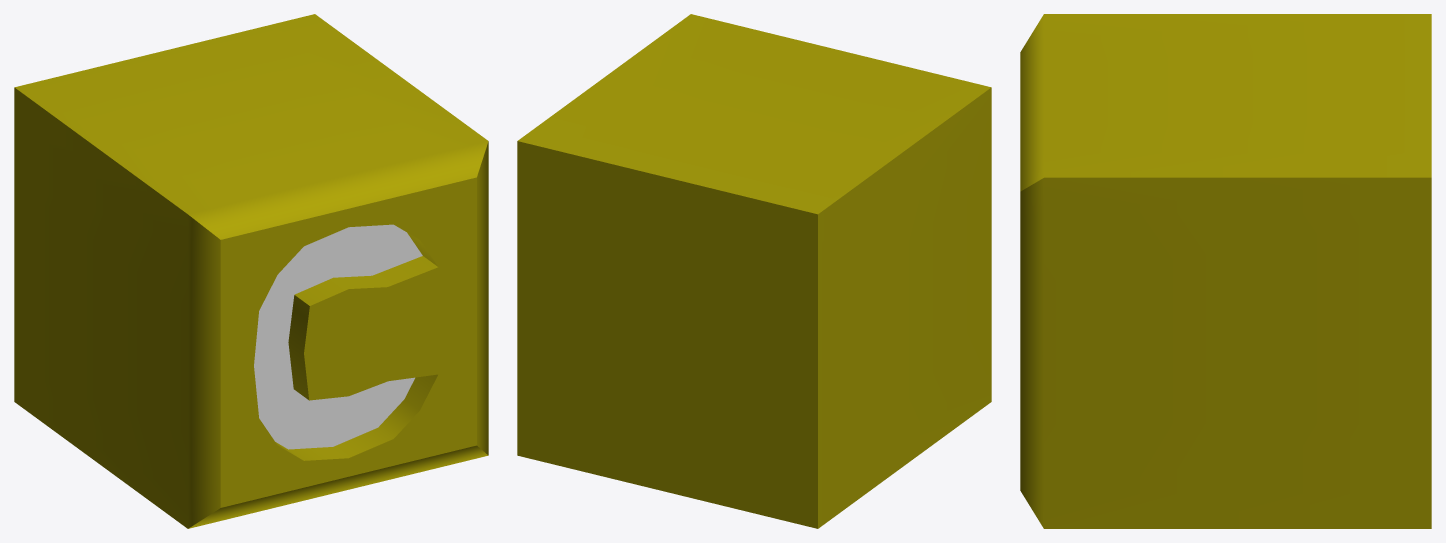
Rendered from C_block.fbx.
3 renders of one model, left to right at view 1: azimuth 30°, elevation 25°; view 2: azimuth 150°, elevation 25°; view 3: azimuth 270°, elevation 25°, orthographic. The views are drawn at different scales.
Visible parts, largest first — view 1: pasted__pCube3; view 2: pasted__pCube3; view 3: pasted__pCube3.
Part boxes in pixels (x1,y1,x2,y2): pasted__pCube3: (14, 14, 488, 528); pasted__pCube3: (517, 14, 991, 528); pasted__pCube3: (1020, 14, 1431, 528).
Size of the model in its own units: 1 by 1 by 1.06.
